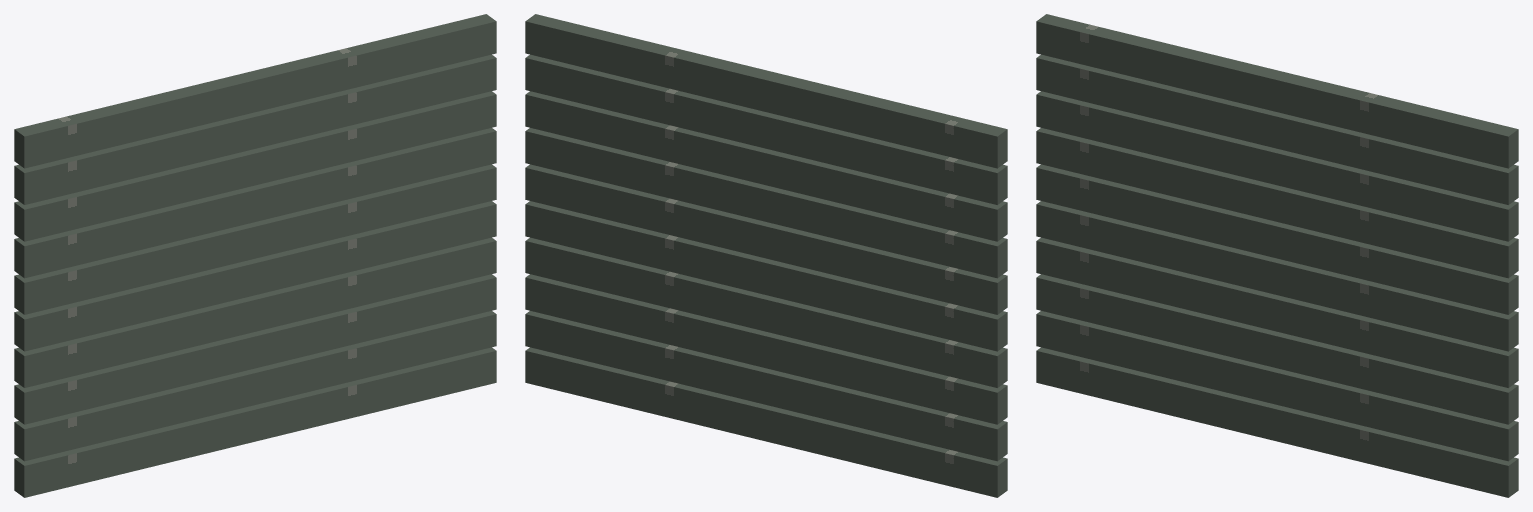
Rendered from garage_shutter.gltf.
The picture shows the model from 3 angles, left to right: view 1: azimuth 30°, elevation 25°; view 2: azimuth 150°, elevation 25°; view 3: azimuth 330°, elevation 25°; orthographic projection.
Visible parts, largest first — view 1: slat (×10); view 2: slat (×10); view 3: slat (×10).
Boxes of the visible parts, bbox=[...] form: slat (×10): bbox=[14, 14, 496, 497]; slat (×10): bbox=[525, 14, 1007, 497]; slat (×10): bbox=[1036, 14, 1518, 497].
Size of the model in its own units: 3.38 by 2.47 by 0.125.
1 material, 1 textured.
